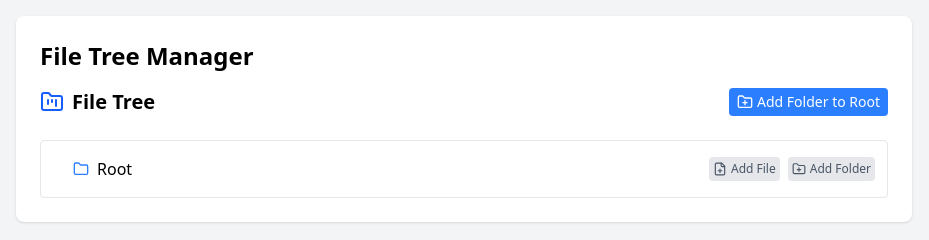
Scenario: Validation Rules › should show an error when adding a folder with an empty name
Step 1. Click the button "Add Folder to Root" → click(808, 102), box [729,88,888,116]
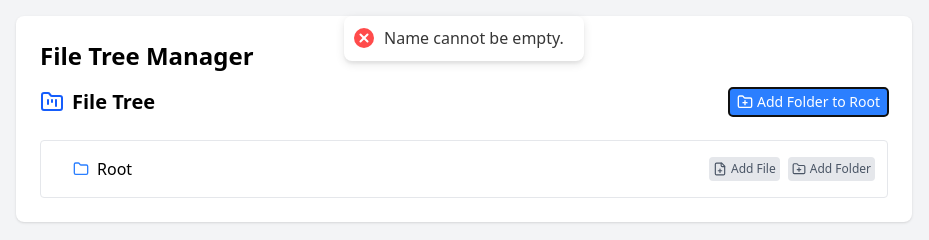
Expected: the text "Name cannot be empty." is shown, [384,28,564,49]
